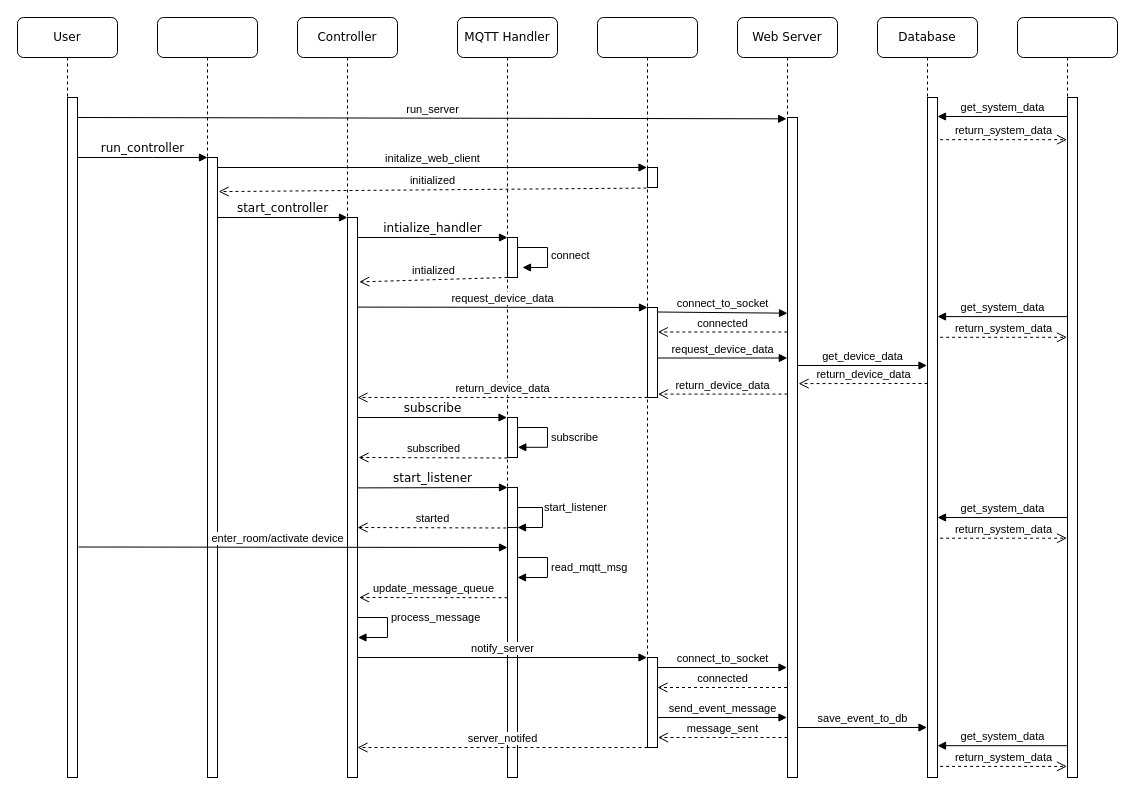
This 1135x795 diagram has some shape labels left out. The box of each missing label's shape, as (x1, y1, x2, y2) in pixels:
Main: (156, 16, 258, 778)
Web Client: (596, 16, 698, 738)
Website: (1016, 16, 1118, 778)
